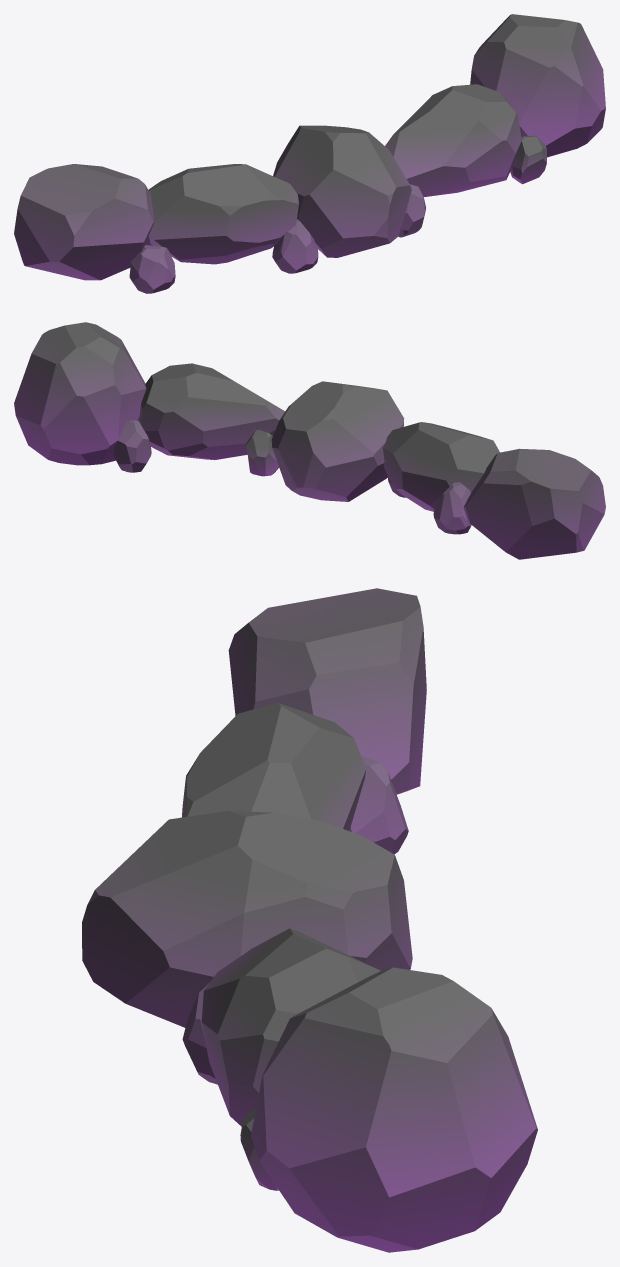
The model's file is rock5.fbx.
3 views of the same model, one above another, from view 1: azimuth 30°, elevation 25°; view 2: azimuth 150°, elevation 25°; view 3: azimuth 270°, elevation 25° (orthographic). The views are drawn at different scales.
Visible parts, largest first — view 1: Sphere.042, Sphere.046, Sphere.044, Sphere.043, Sphere.045, Sphere.050, Sphere.049, Sphere.047, Sphere.048; view 2: Sphere.046, Sphere.042, Sphere.044, Sphere.045, Sphere.043, Sphere.051, Sphere.052, Sphere.053; view 3: Sphere.046, Sphere.044, Sphere.042, Sphere.043, Sphere.045, Sphere.052, Sphere.048, Sphere.047.
Part boxes in pixels (x1=…): Sphere.042: x1=14, y1=164, x2=154, y2=280; Sphere.046: x1=470, y1=14, x2=605, y2=157; Sphere.044: x1=273, y1=125, x2=411, y2=257; Sphere.043: x1=148, y1=164, x2=298, y2=264; Sphere.045: x1=385, y1=84, x2=521, y2=196; Sphere.050: x1=129, y1=245, x2=175, y2=293; Sphere.049: x1=272, y1=219, x2=318, y2=273; Sphere.047: x1=510, y1=135, x2=546, y2=184; Sphere.048: x1=398, y1=184, x2=425, y2=237; Sphere.046: x1=14, y1=322, x2=146, y2=465; Sphere.042: x1=463, y1=448, x2=605, y2=559; Sphere.044: x1=271, y1=381, x2=404, y2=501; Sphere.045: x1=137, y1=363, x2=284, y2=460; Sphere.043: x1=383, y1=422, x2=499, y2=511; Sphere.051: x1=113, y1=420, x2=151, y2=472; Sphere.052: x1=433, y1=482, x2=471, y2=534; Sphere.053: x1=246, y1=429, x2=278, y2=476; Sphere.046: x1=251, y1=967, x2=537, y2=1252; Sphere.044: x1=82, y1=811, x2=412, y2=1027; Sphere.042: x1=228, y1=588, x2=426, y2=794; Sphere.043: x1=182, y1=703, x2=366, y2=830; Sphere.045: x1=201, y1=928, x2=380, y2=1126; Sphere.052: x1=349, y1=756, x2=408, y2=854; Sphere.048: x1=182, y1=982, x2=217, y2=1084; Sphere.047: x1=240, y1=1107, x2=278, y2=1190.
Size of the model in its own units: 604 by 137 by 215.
